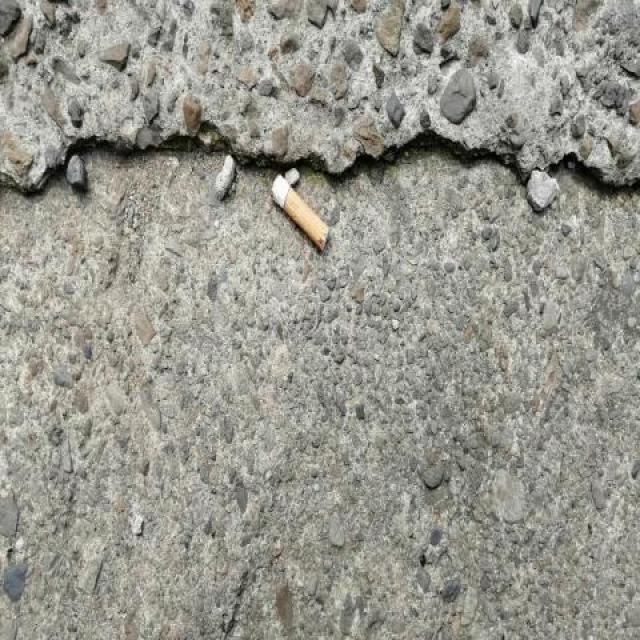non-organic waste: (264, 169, 332, 258)
